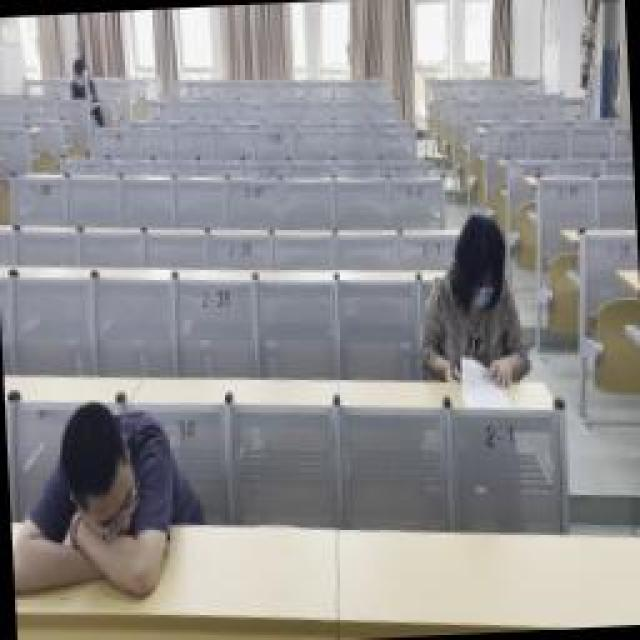sleep: (15, 405, 173, 600)
study: (412, 213, 530, 385), (65, 55, 90, 95)
